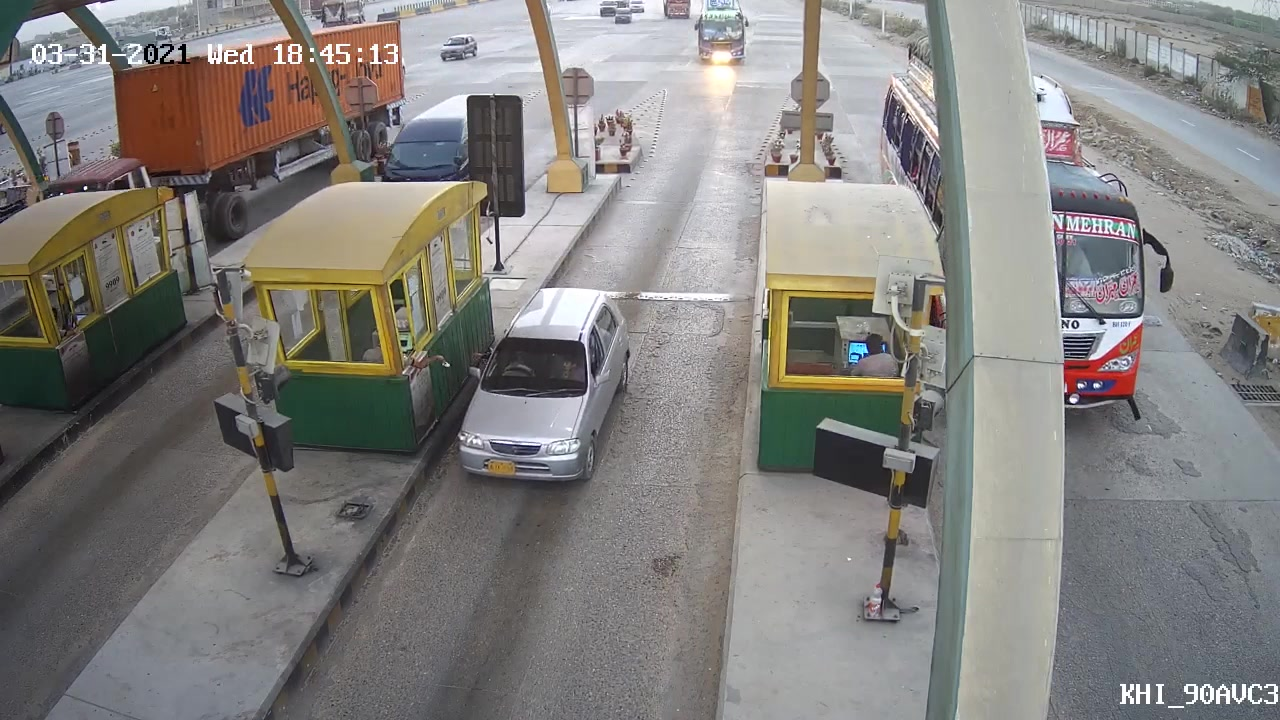F1: (450, 279, 643, 494)
